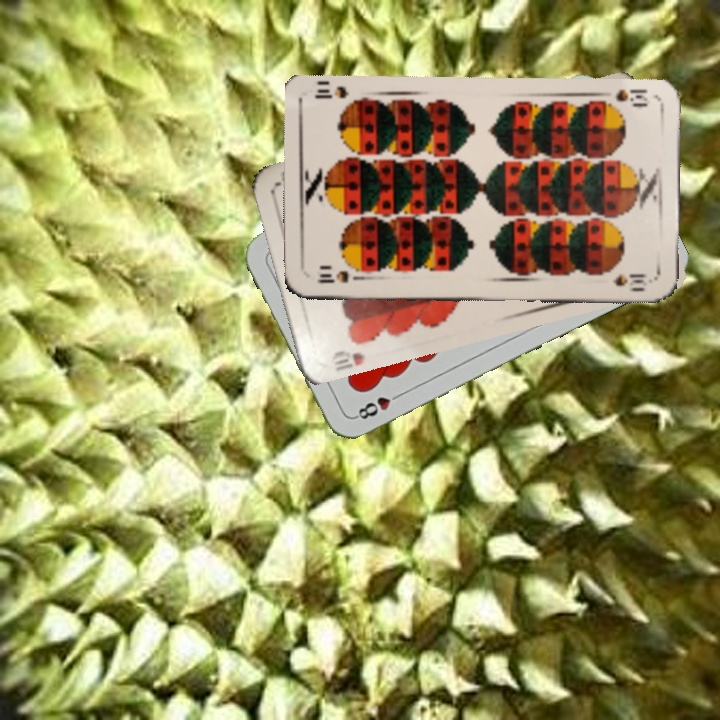H10: (326, 346, 367, 373)
H8: (350, 388, 405, 422)
S10: (313, 266, 364, 286), (611, 85, 650, 110)
